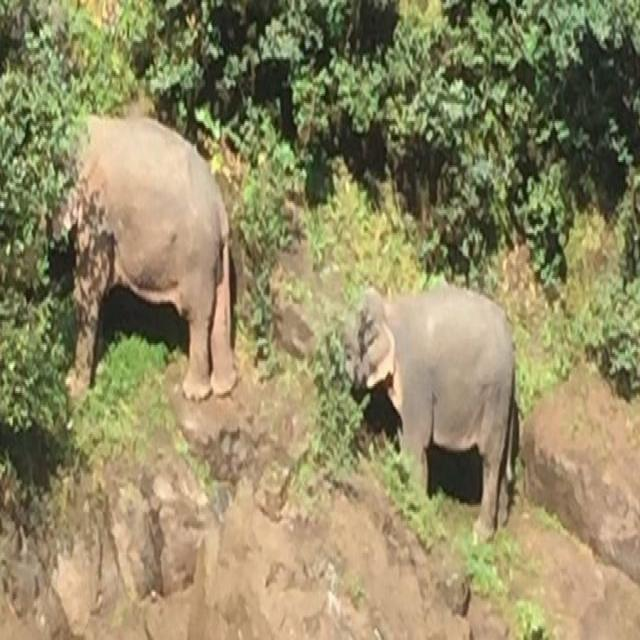Elephant: (28, 106, 260, 407), (338, 284, 523, 530)
